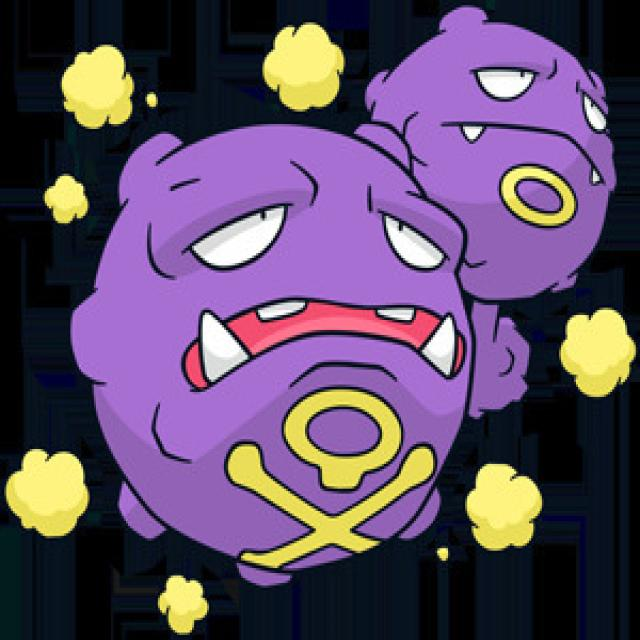Weezing: (110, 0, 620, 548)
